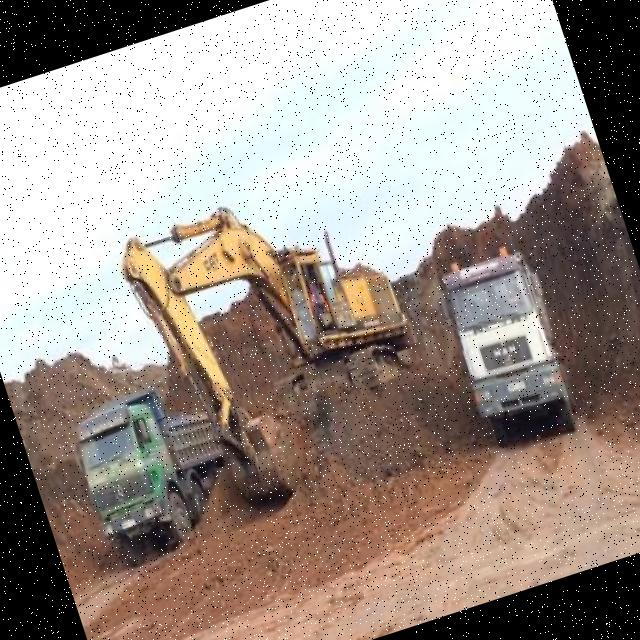Dump Truck: (65, 382, 242, 574), (429, 228, 578, 451)
Excavator: (100, 156, 456, 534)
